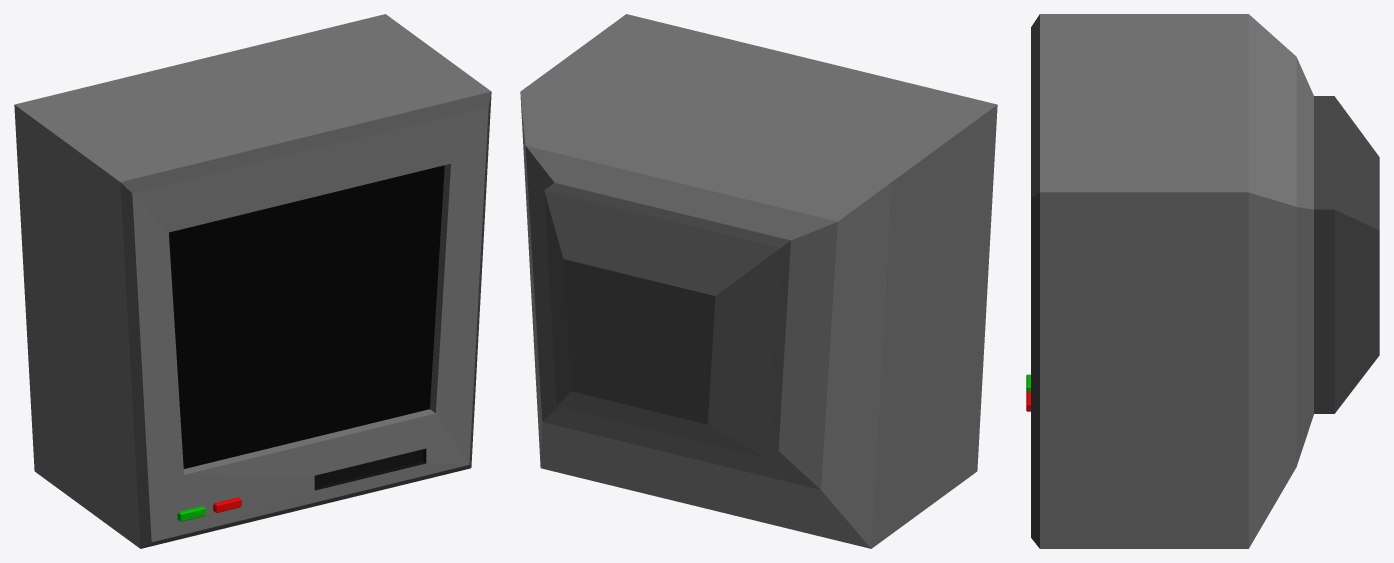
File: Prop_OldTV.fbx
The picture shows the model from 3 angles, left to right: view 1: azimuth 30°, elevation 25°; view 2: azimuth 150°, elevation 25°; view 3: azimuth 270°, elevation 25°; orthographic projection.
Visible parts, largest first — view 1: Prop_OldTV; view 2: Prop_OldTV; view 3: Prop_OldTV.
Boxes of the visible parts, x1,y1,x2,y2 form: Prop_OldTV: [14, 14, 491, 548]; Prop_OldTV: [520, 14, 997, 548]; Prop_OldTV: [1026, 14, 1379, 548].
Size of the model in its own units: 89.73 by 85.85 by 75.13.
